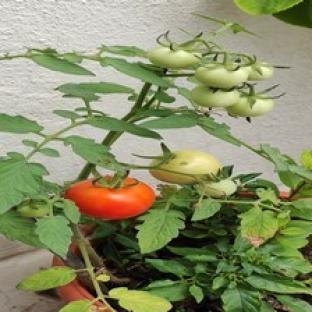Tomato: (65, 177, 154, 220), (150, 151, 220, 183), (195, 63, 249, 89), (148, 46, 200, 69), (191, 85, 239, 107), (226, 97, 274, 116), (200, 179, 236, 197), (248, 62, 274, 80), (17, 204, 48, 218)
